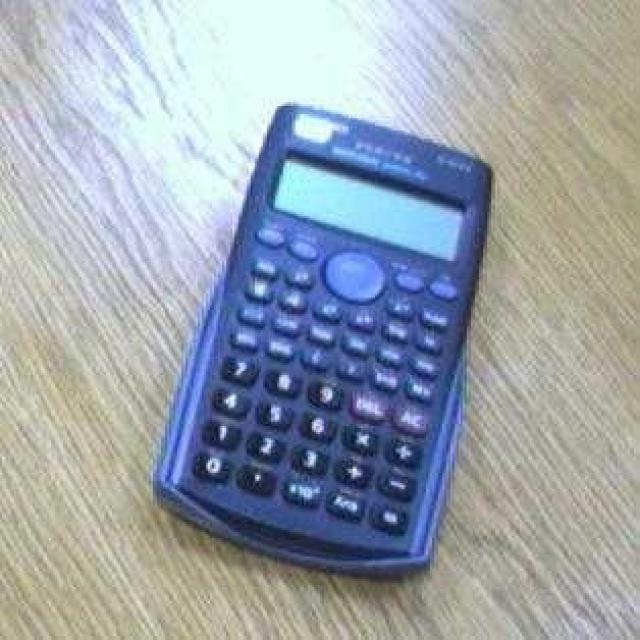Calculator: (151, 100, 493, 577)
